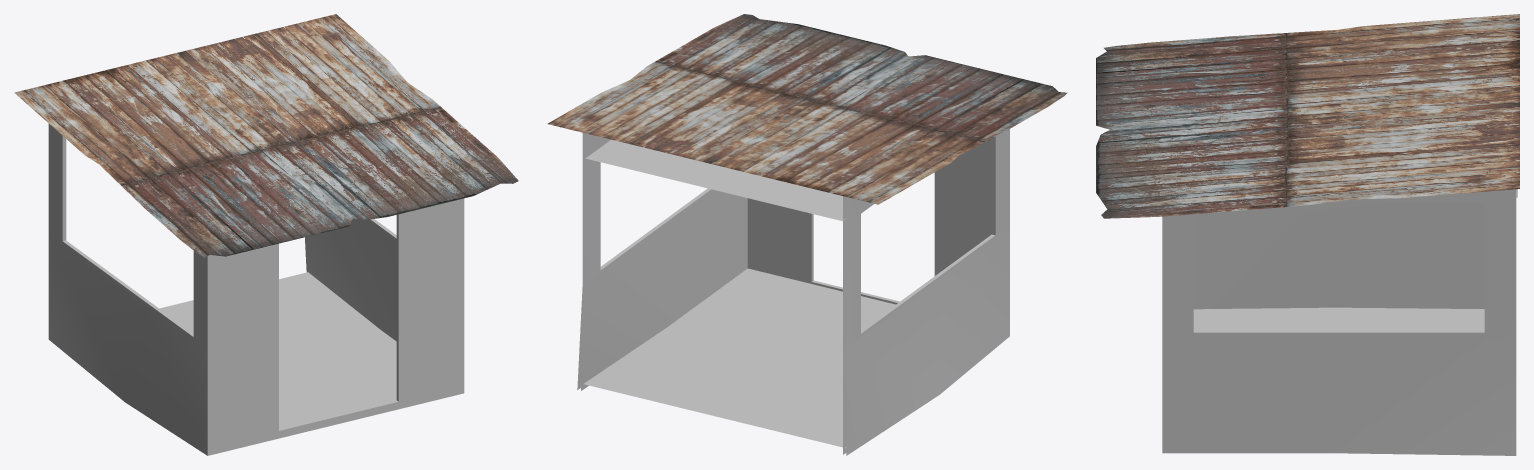
Rendered from Porch_05.fbx.
3 renders of one model, left to right at view 1: azimuth 30°, elevation 25°; view 2: azimuth 150°, elevation 25°; view 3: azimuth 270°, elevation 25°, orthographic. The views are drawn at different scales.
Parts seen in each view (by area): view 1: Porch_05; view 2: Porch_05; view 3: Porch_05.
Part boxes in pixels (x1=…): Porch_05: x1=14, y1=14, x2=518, y2=455; Porch_05: x1=547, y1=14, x2=1067, y2=455; Porch_05: x1=1096, y1=14, x2=1519, y2=455.
Size of the model in its own units: 355 by 364 by 267.
